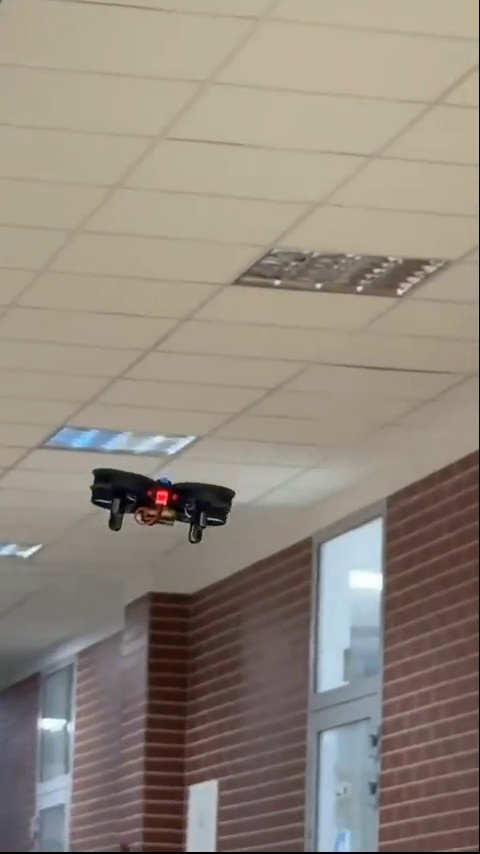drone: (89, 467, 236, 545)
